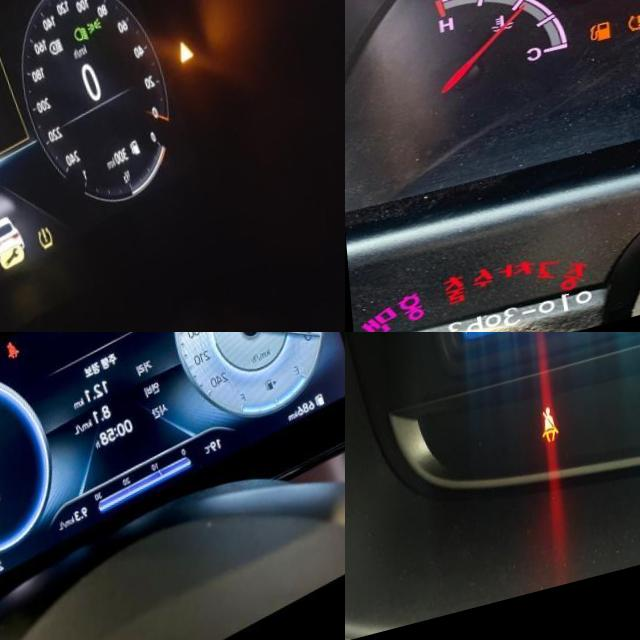Low beam: (70, 39, 88, 64), (54, 332, 75, 345)
Low fuel level: (584, 34, 607, 56)
SideLamp: (83, 34, 101, 54), (69, 332, 90, 338)
